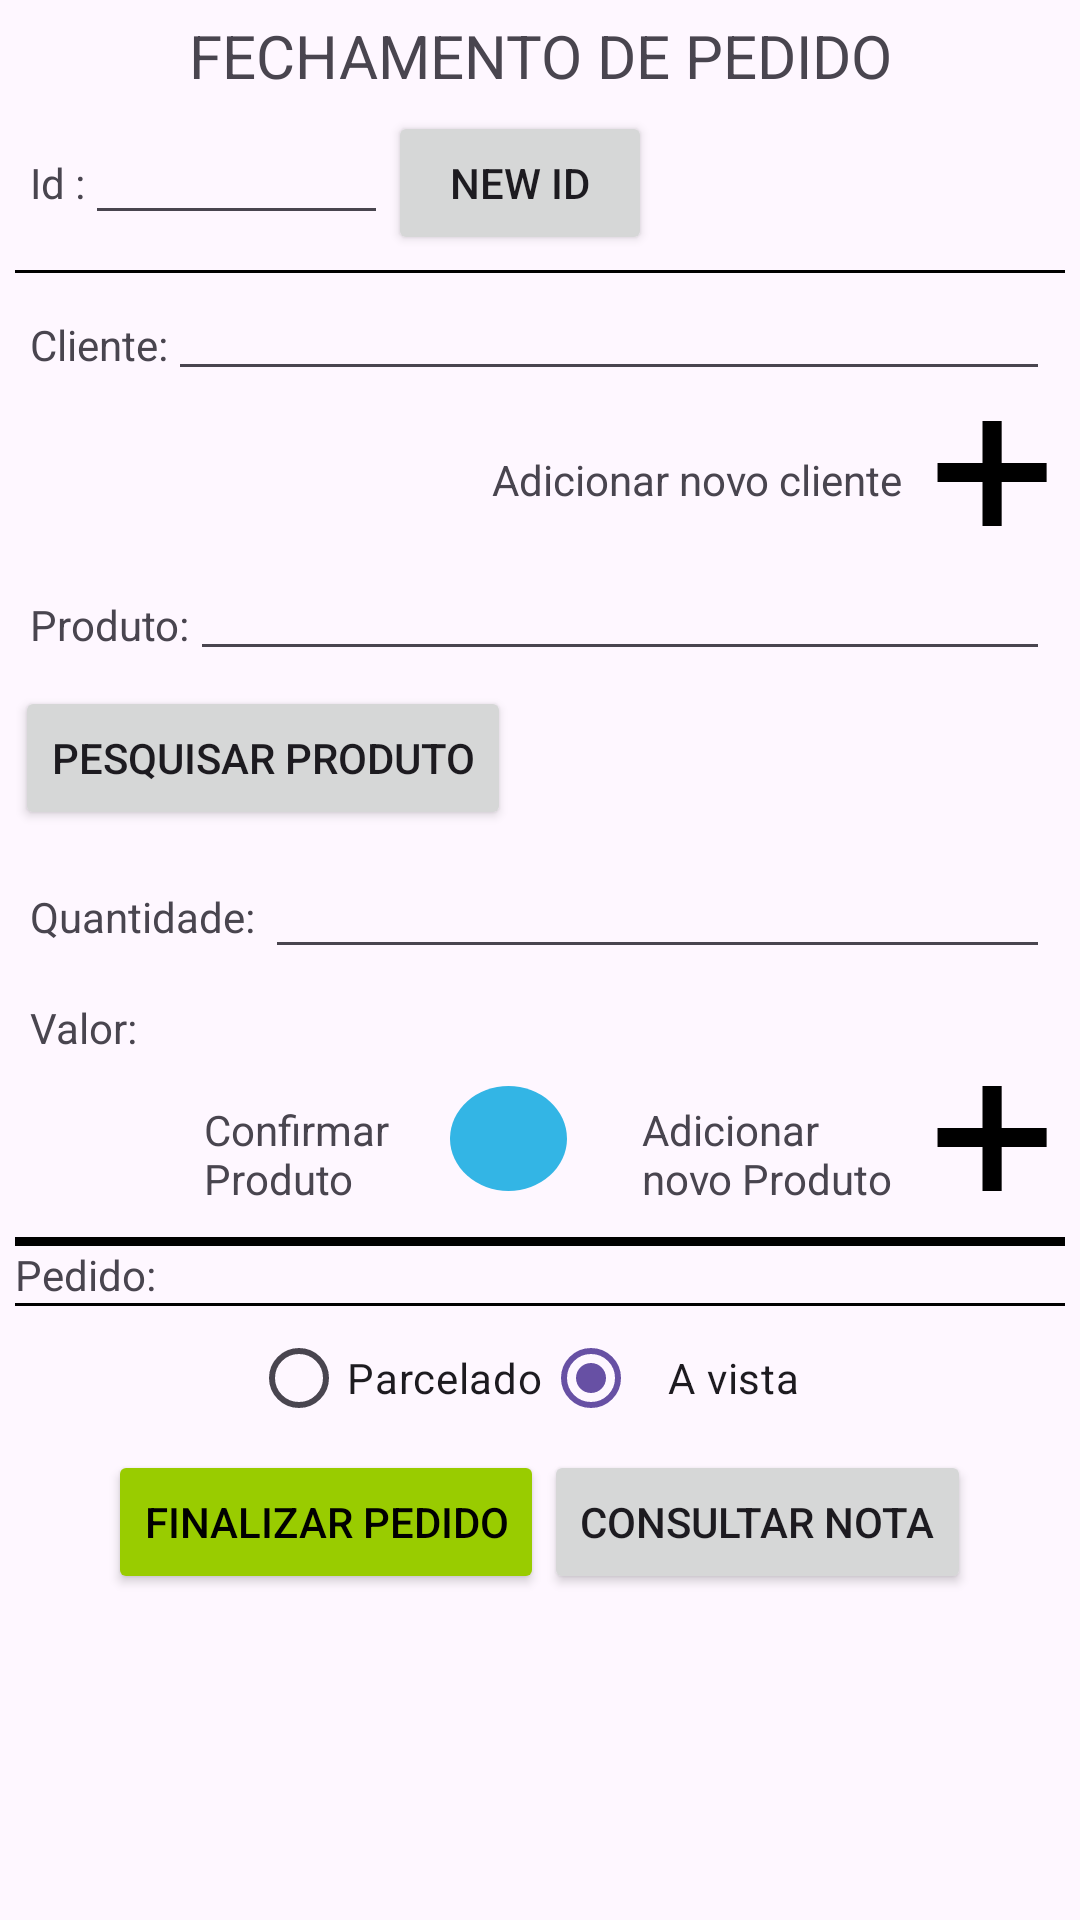

Icon bounding boxes for this 1080×1920 phone screenshot, format (x1, y1, x2, y2):
pluss remap: (937, 421, 1047, 526), (937, 1086, 1047, 1191)
